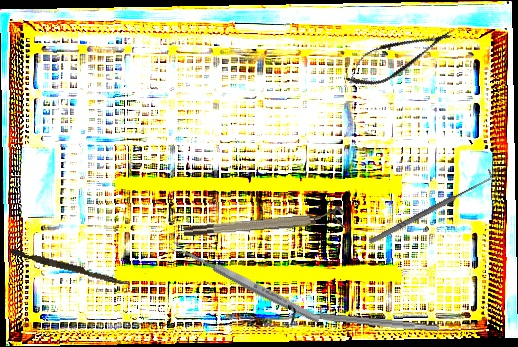Fixation Ring: (286, 303, 440, 341), (182, 205, 346, 240)
Hook Surgical: (364, 168, 497, 247)
Micro Scissor: (338, 16, 460, 97)
Pusher: (9, 248, 132, 287)
Surgical Spoon: (169, 240, 322, 325)
